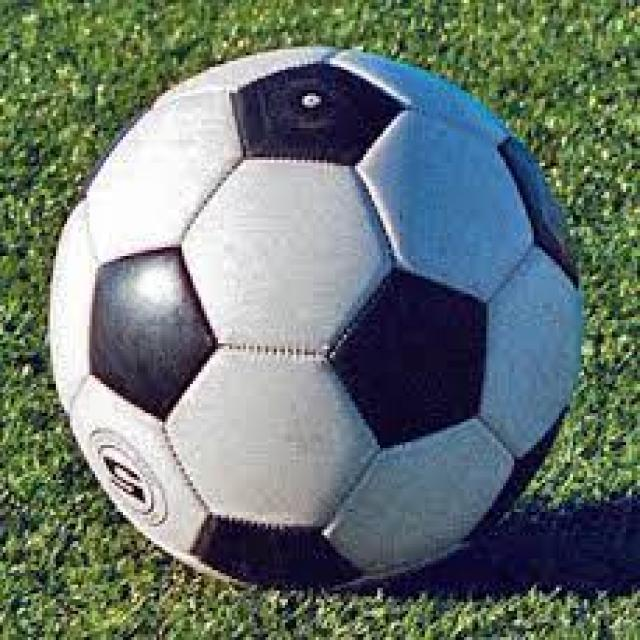ball: (52, 50, 584, 594)
